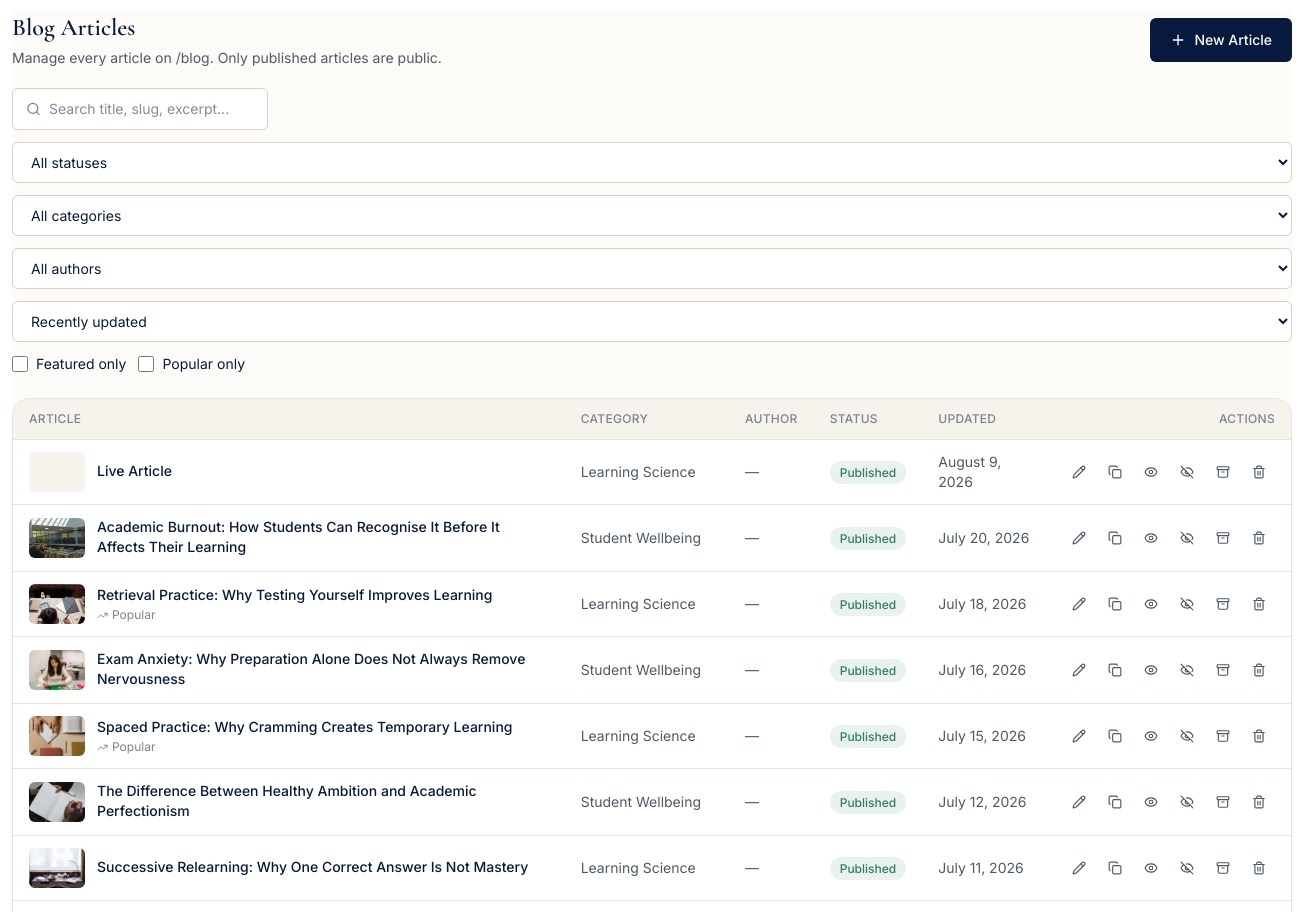
BlogArticlesAdmin › unpublishes, archives and duplicates an article from the list
Click the button named "Unpublish Live Article". click: point(1187, 472)
box: 1171,456 -> 1203,488
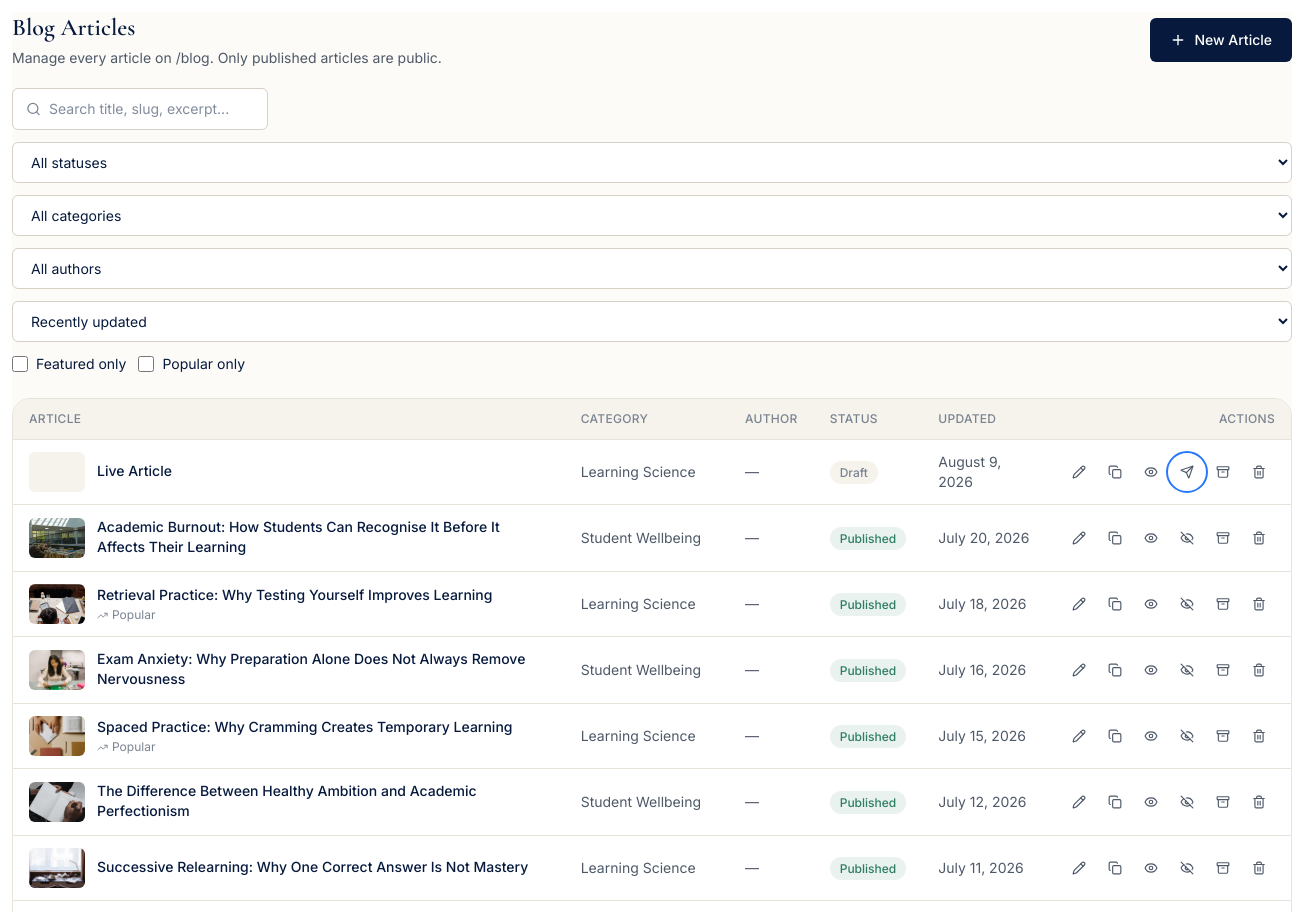
Check: the text "draft" is shown, box 830,461 -> 878,484
Click the button named "Archive Live Article". click: point(1223, 472)
box: 1207,456 -> 1239,488
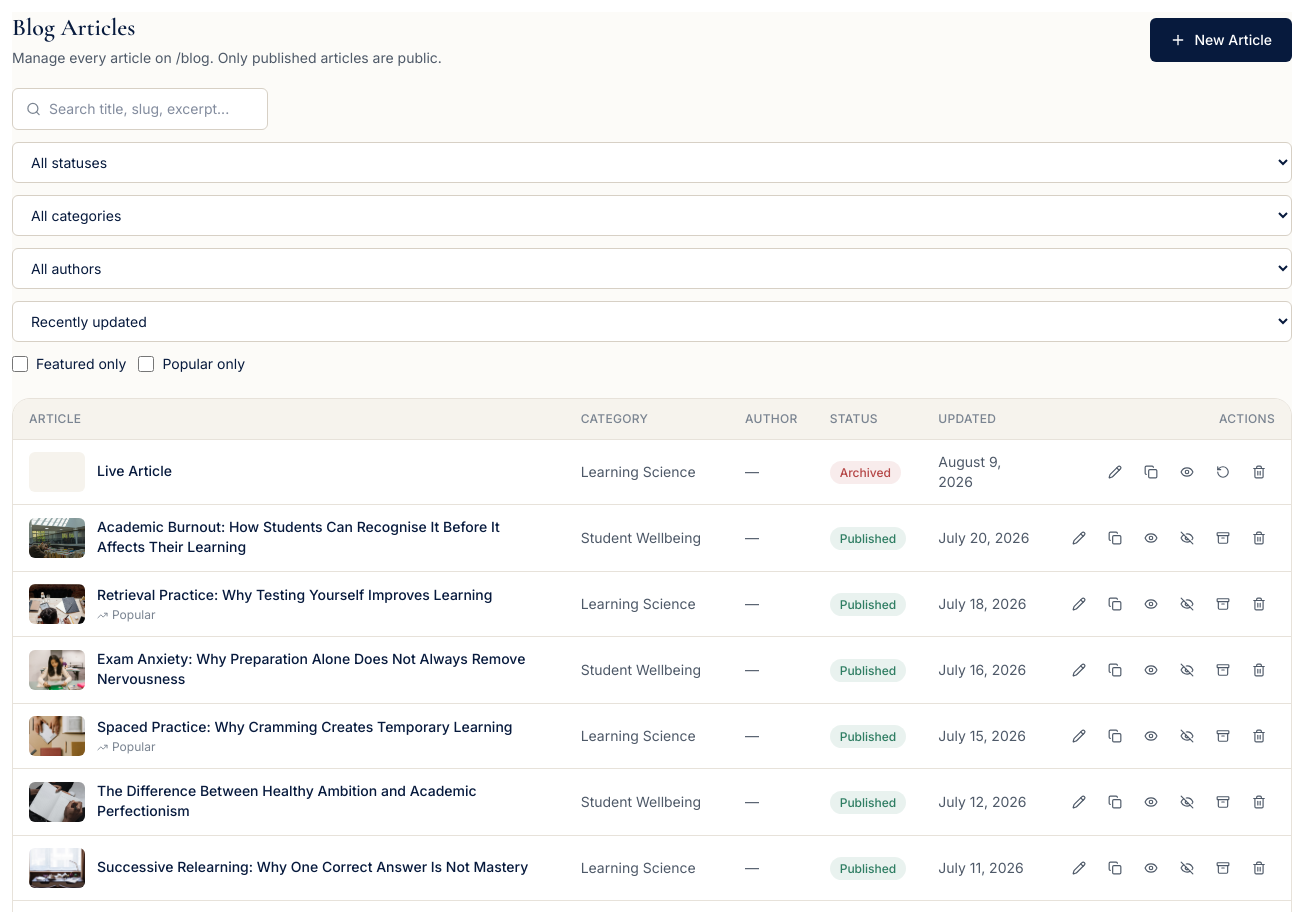
Check: the text "archived" is shown, box 830,461 -> 901,484
Click the button named "Duplicate Live Article". click: point(1151, 472)
box: 1135,456 -> 1167,488
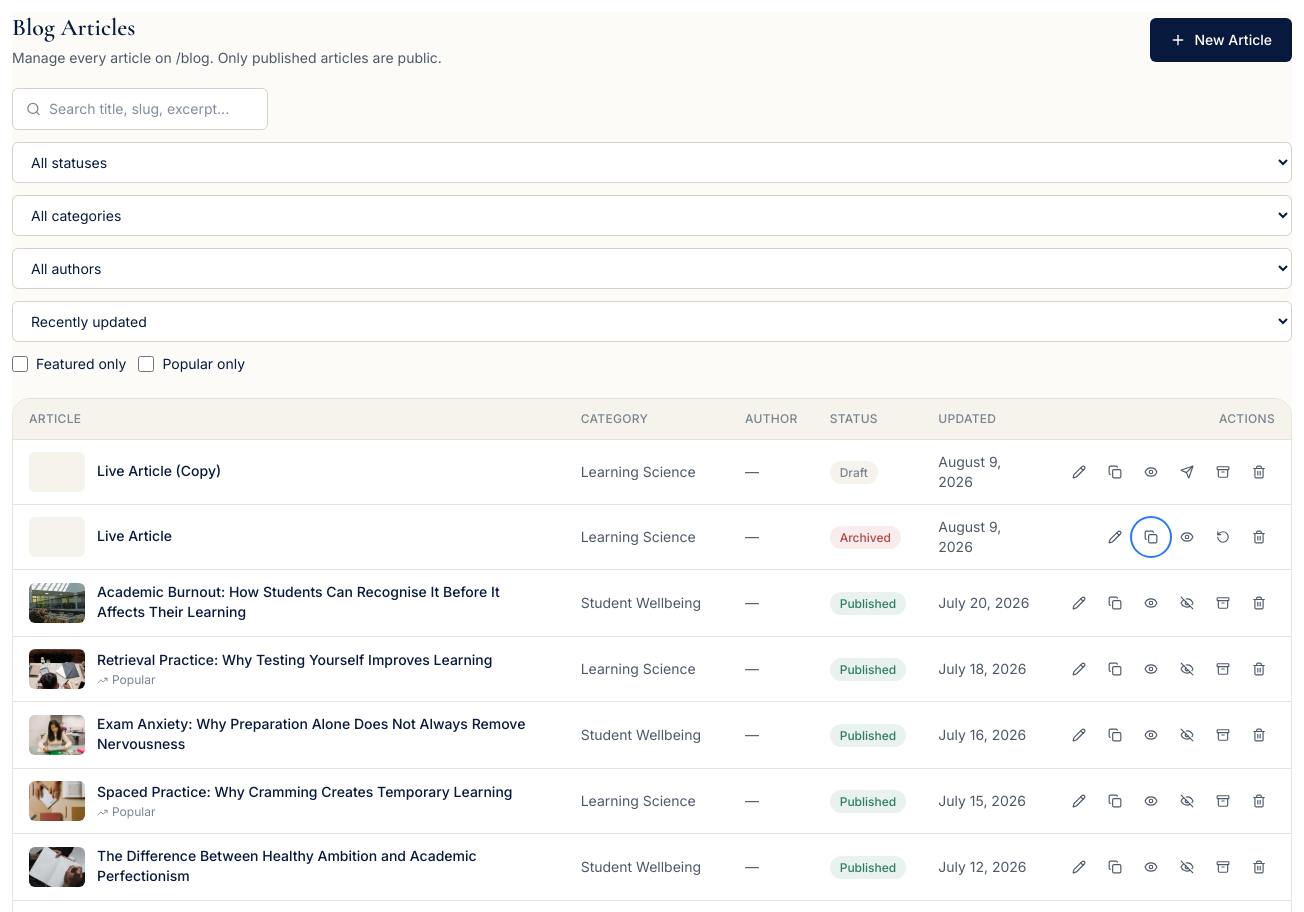
Check: the text "Live Article (Copy)" is shown, box 97,461 -> 221,481
